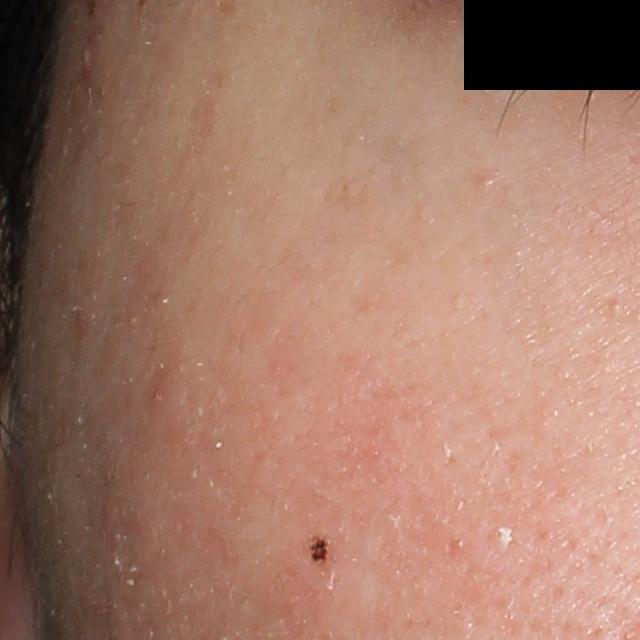comedo: (487, 519, 513, 547), (479, 173, 497, 187), (607, 300, 624, 314)
